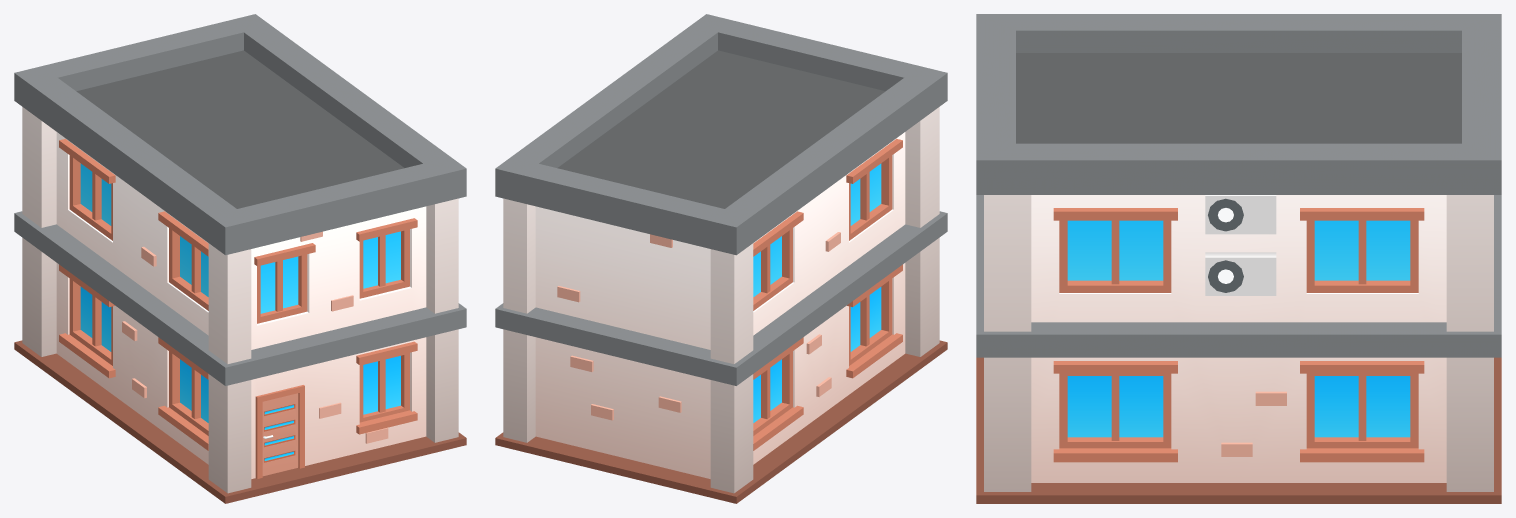
The model's file is Building_Living_07.glb.
3 views of the same model, side by side, from view 1: azimuth 30°, elevation 25°; view 2: azimuth 150°, elevation 25°; view 3: azimuth 270°, elevation 25° (orthographic). The views are drawn at different scales.
Parts seen in each view (by area): view 1: Building_Living_07; view 2: Building_Living_07; view 3: Building_Living_07.
Boxes of the visible parts, x1=… form: Building_Living_07: x1=14, y1=14, x2=466, y2=503; Building_Living_07: x1=495, y1=14, x2=947, y2=503; Building_Living_07: x1=976, y1=14, x2=1501, y2=503.
Size of the model in its own units: 7.15 by 7.83 by 10.84.
Materials: 1 (1 with a texture image).
